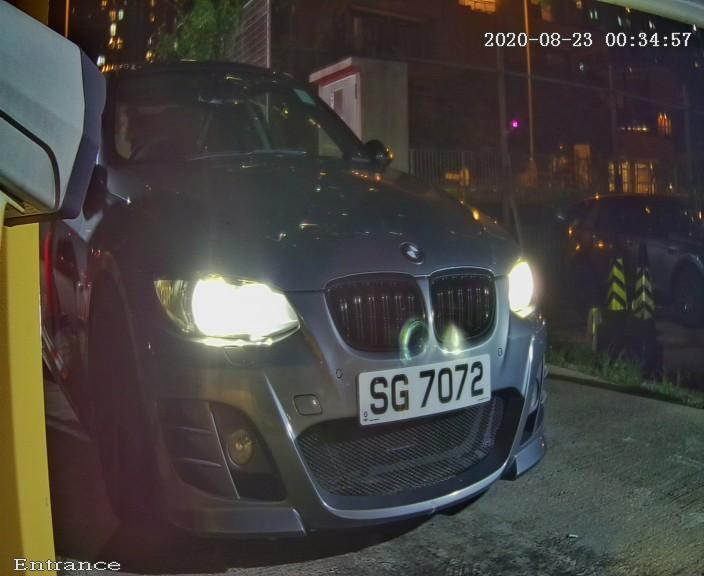Car: (48, 6, 588, 571)
License Plate: (326, 319, 513, 442)
